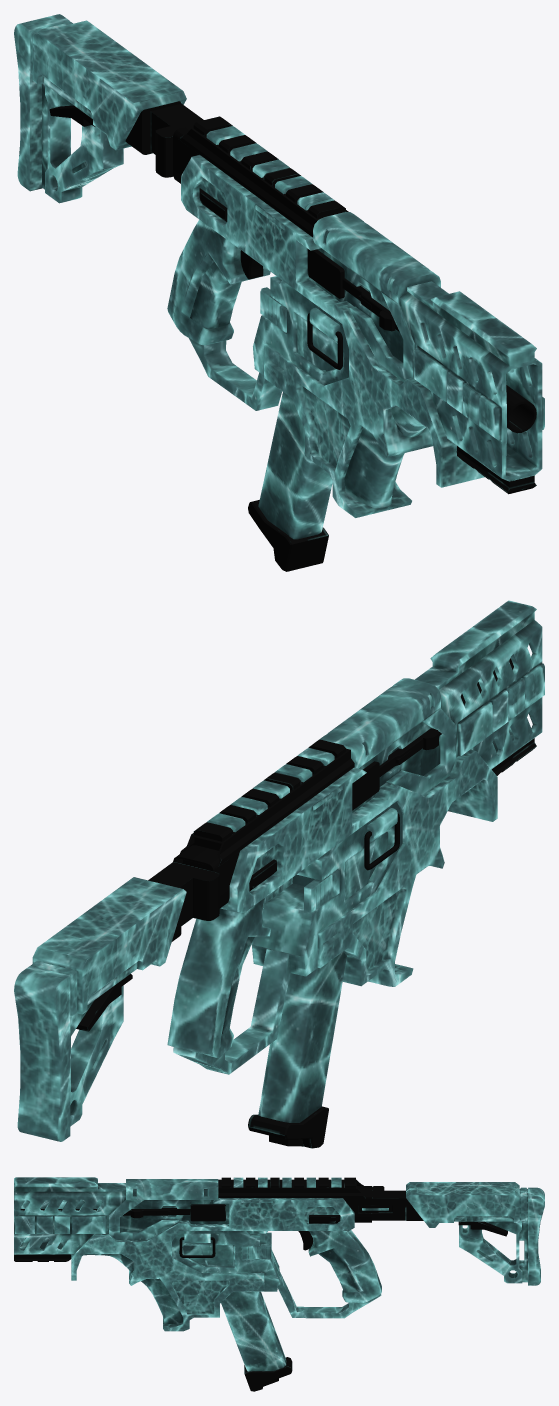
The model's file is SMG GUN FREE.fbx.
3 views of the same model, one above another, from view 1: azimuth 30°, elevation 25°; view 2: azimuth 150°, elevation 25°; view 3: azimuth 270°, elevation 25° (orthographic). The views are drawn at different scales.
Visible parts, largest first — view 1: pPlane3, polySurface1, pCube2, pCube1, pPlane4, pPlane5, pPlane16, pPlane6, polySurface5, polySurface2, polySurface8, pPlane15 (+10 smaller); view 2: pPlane3, pPlane4, pCube2, polySurface1, pPlane16, pPlane5, polySurface8, pCube1, polySurface5, polySurface2, polySurface4, pPlane6 (+8 smaller); view 3: pPlane3, polySurface1, pPlane4, pCube2, pPlane16, pPlane5, pCube1, pPlane6, polySurface4, polySurface2, pPlane2, polySurface8 (+13 smaller).
Boxes of the visible parts, <box> form: pPlane3: <box>181,155,484,517</box>; polySurface1: <box>399,291,544,481</box>; pCube2: <box>32,20,186,150</box>; pCube1: <box>313,212,440,382</box>; pPlane4: <box>189,276,348,410</box>; pPlane5: <box>167,219,270,345</box>; pPlane16: <box>258,392,332,539</box>; pPlane6: <box>45,84,123,203</box>; polySurface5: <box>193,116,345,218</box>; polySurface2: <box>407,281,536,366</box>; polySurface8: <box>14,14,70,191</box>; pPlane15: <box>344,406,425,507</box>; pPlane3: <box>220,749,497,986</box>; pPlane4: <box>173,801,402,1074</box>; pCube2: <box>32,877,186,1014</box>; polySurface1: <box>439,620,544,769</box>; pPlane16: <box>258,952,346,1122</box>; pPlane5: <box>167,898,270,1057</box>; polySurface8: <box>14,966,70,1141</box>; pCube1: <box>316,678,456,795</box>; polySurface5: <box>193,739,345,841</box>; polySurface2: <box>415,600,536,689</box>; polySurface4: <box>180,748,354,865</box>; pPlane6: <box>70,985,123,1126</box>; pPlane3: <box>71,1198,354,1331</box>; polySurface1: <box>14,1191,125,1254</box>; pPlane4: <box>172,1231,381,1318</box>; pCube2: <box>406,1182,519,1227</box>; pPlane16: <box>221,1291,286,1371</box>; pPlane5: <box>308,1230,381,1302</box>; pCube1: <box>109,1179,218,1240</box>; pPlane6: <box>459,1220,522,1283</box>; polySurface4: <box>218,1179,365,1198</box>; polySurface2: <box>14,1177,125,1191</box>; pPlane2: <box>120,1200,229,1231</box>; polySurface8: <box>528,1187,544,1285</box>.
Size of the model in its own units: 2.13 by 11.83 by 27.6.
